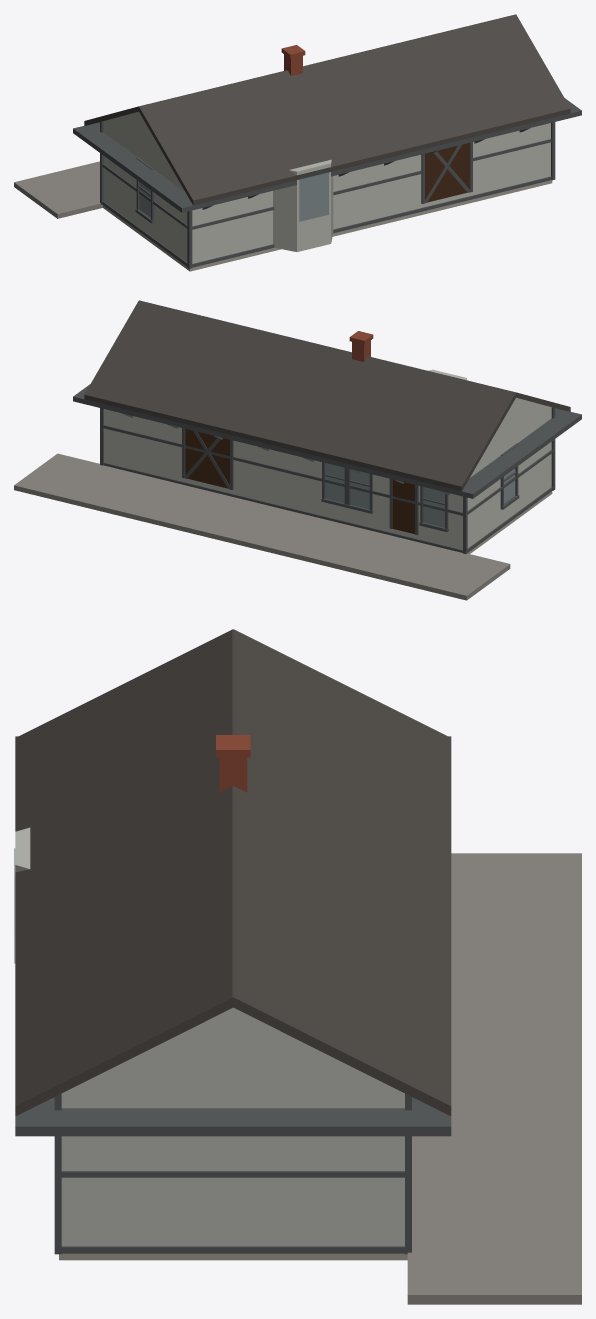
Rendered from Standard_05_Depot.glb.
The picture shows the model from 3 angles, top to bottom: view 1: azimuth 30°, elevation 25°; view 2: azimuth 150°, elevation 25°; view 3: azimuth 270°, elevation 25°; orthographic projection. The views are drawn at different scales.
Parts seen in each view (by area): view 1: roof, walls, trim, platform, doors, glass, foundation, chimney, sash; view 2: roof, platform, walls, trim, doors, glass, sash, chimney; view 3: roof, platform, walls, trim, foundation, chimney.
Part boxes in pixels (<box>): roof: <box>84,14,570,205</box>; walls: <box>103,111,550,263</box>; trim: <box>73,98,581,268</box>; platform: <box>14,161,102,218</box>; doors: <box>425,142,469,202</box>; glass: <box>139,171,328,221</box>; foundation: <box>103,180,552,271</box>; chimney: <box>281,45,305,75</box>; sash: <box>135,157,154,223</box>; roof: <box>84,300,570,491</box>; platform: <box>14,453,510,600</box>; walls: <box>104,369,551,549</box>; trim: <box>73,384,581,553</box>; doors: <box>185,429,414,533</box>; glass: <box>325,463,515,527</box>; sash: <box>321,443,519,532</box>; chimney: <box>349,331,373,361</box>; roof: <box>15,629,451,1115</box>; platform: <box>407,853,581,1304</box>; walls: <box>15,827,404,1246</box>; trim: <box>15,736,451,1254</box>; foundation: <box>59,1253,407,1260</box>; chimney: <box>216,735,250,792</box>.
Bounding box in the file's own units: 0.6306 × 0.205 × 0.3424.
